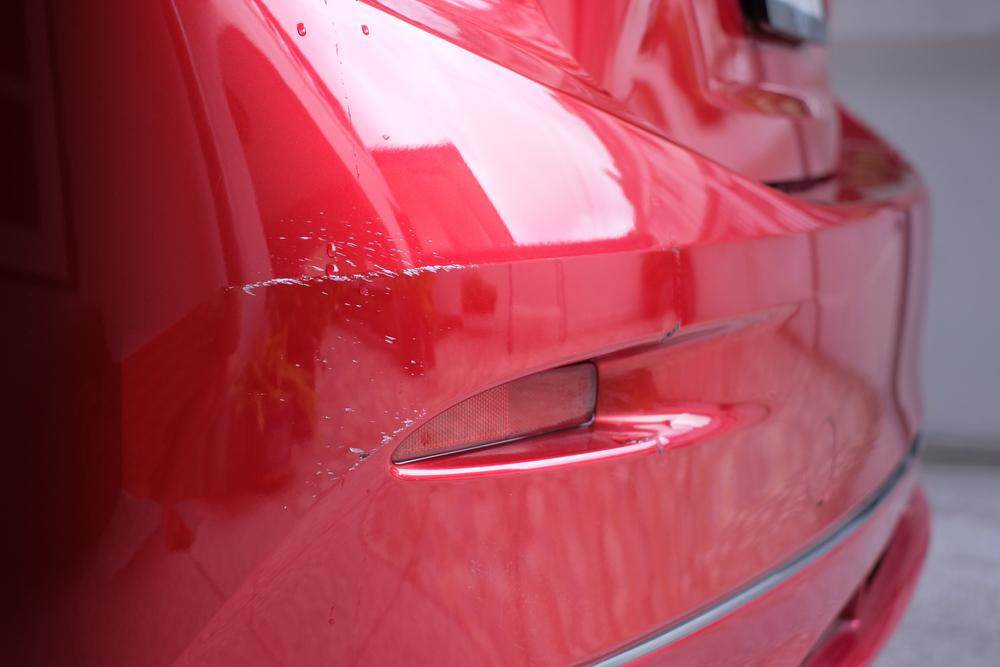scratch: (235, 206, 469, 486)
